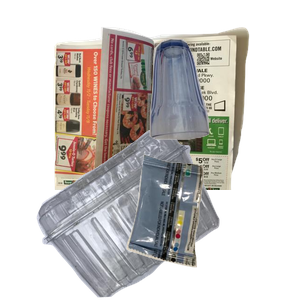glass: (147, 36, 300, 168)
paper: (51, 24, 291, 204)
plastic: (34, 130, 246, 300)
trash: (124, 152, 300, 300)
